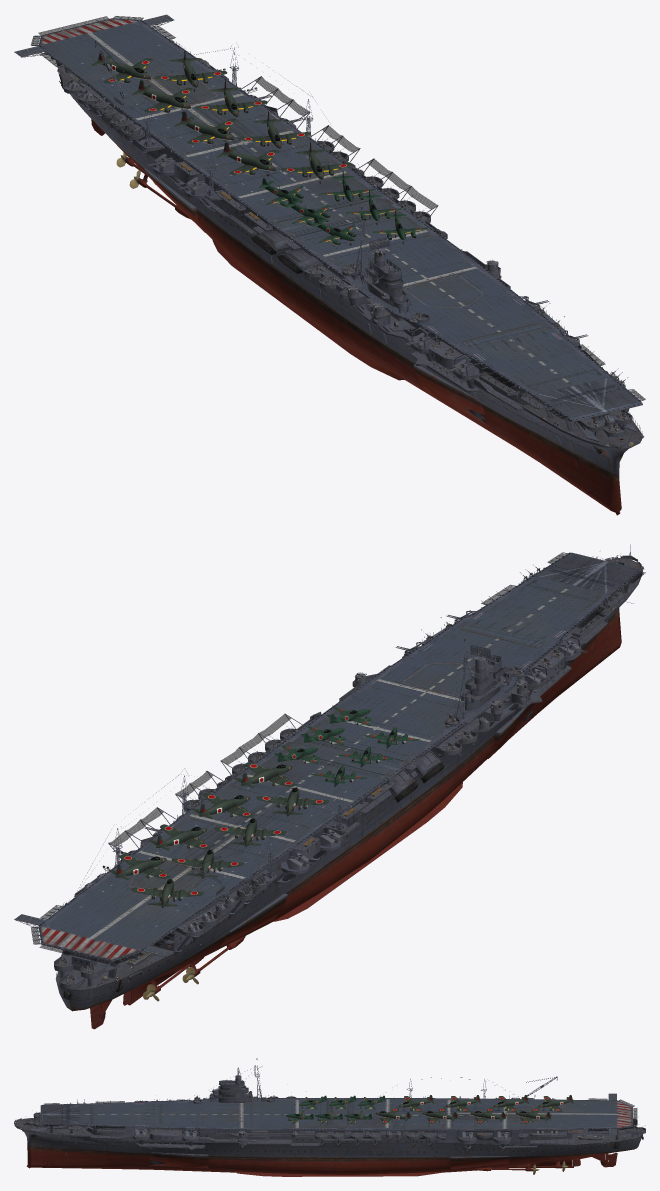
File: ijn_cv_shoukaku_1960-maximum-compressed.glb
The picture shows the model from 3 angles, top to bottom: view 1: azimuth 30°, elevation 25°; view 2: azimuth 150°, elevation 25°; view 3: azimuth 270°, elevation 25°; orthographic projection. The views are drawn at different scales.
Bounding box in the file's own units: 29.04 × 29.08 × 173.
48 materials, 47 textured.
